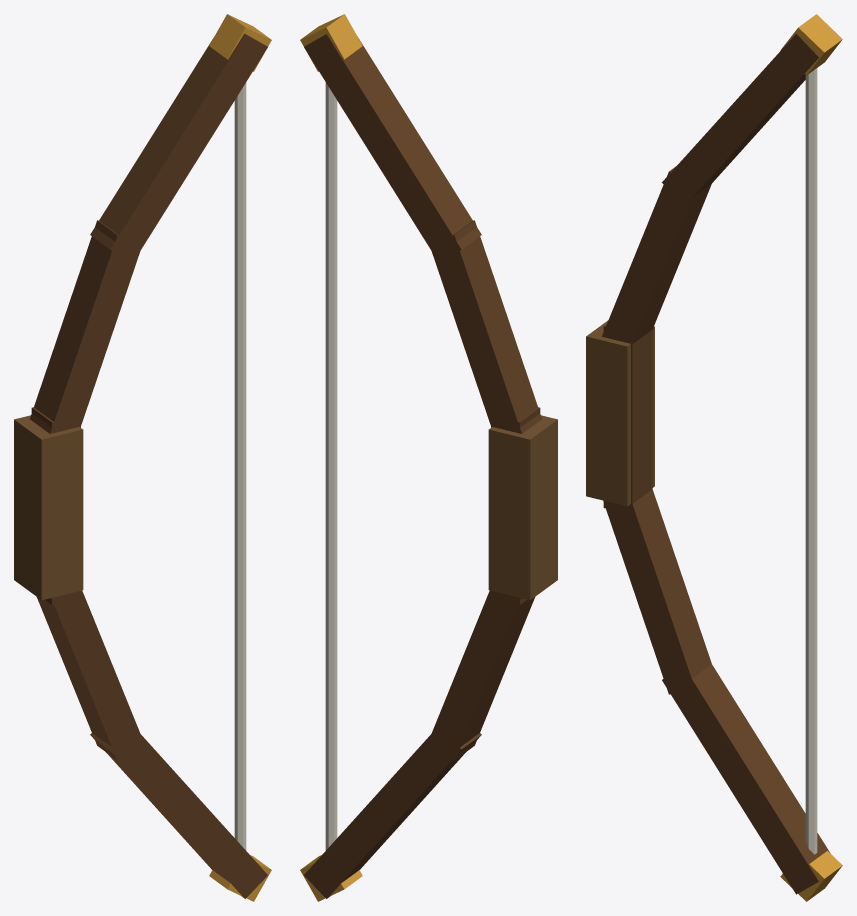
Rendered from Bow.obj.
The picture shows the model from 3 angles, left to right: view 1: azimuth 30°, elevation 25°; view 2: azimuth 150°, elevation 25°; view 3: azimuth 330°, elevation 25°; orthographic projection.
Parts seen in each view (by area): view 1: Bow; view 2: Bow; view 3: Bow.
Part boxes in pixels (left/top/right/bottom): Bow: left=14, top=14, right=271, bottom=901; Bow: left=300, top=14, right=557, bottom=901; Bow: left=586, top=14, right=842, bottom=901.
Bounding box in the file's own units: 1.29 × 4.58 × 0.2625.
